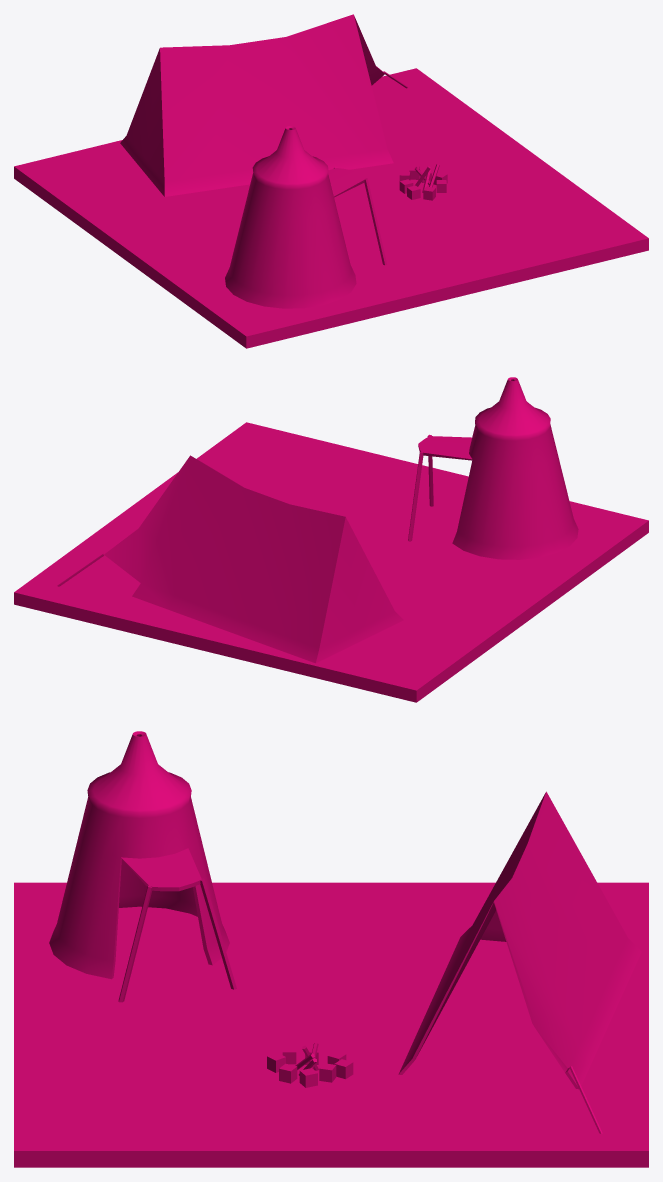
File: tent_house.fbx
3 renders of one model, top to bottom at view 1: azimuth 30°, elevation 25°; view 2: azimuth 150°, elevation 25°; view 3: azimuth 270°, elevation 25°, orthographic. The views are drawn at different scales.
Parts seen in each view (by area): view 1: BASE1, pCube48, pCone1; view 2: BASE1, pCube48, pCone1; view 3: BASE1, pCube48, pCone1, pCylinder1, pCylinder2.
Part boxes in pixels (left/top/right/bottom): BASE1: left=14, top=68, right=648, bottom=348; pCube48: left=120, top=14, right=393, bottom=196; pCone1: left=225, top=126, right=365, bottom=308; BASE1: left=14, top=422, right=648, bottom=702; pCube48: left=104, top=455, right=403, bottom=663; pCone1: left=418, top=377, right=578, bottom=559; BASE1: left=14, top=882, right=648, bottom=1167; pCube48: left=398, top=791, right=641, bottom=1089; pCone1: left=49, top=731, right=229, bottom=979; pCylinder1: left=118, top=885, right=152, bottom=1002; pCylinder2: left=200, top=878, right=236, bottom=989.
Size of the model in its own units: 8 by 3.13 by 8.
